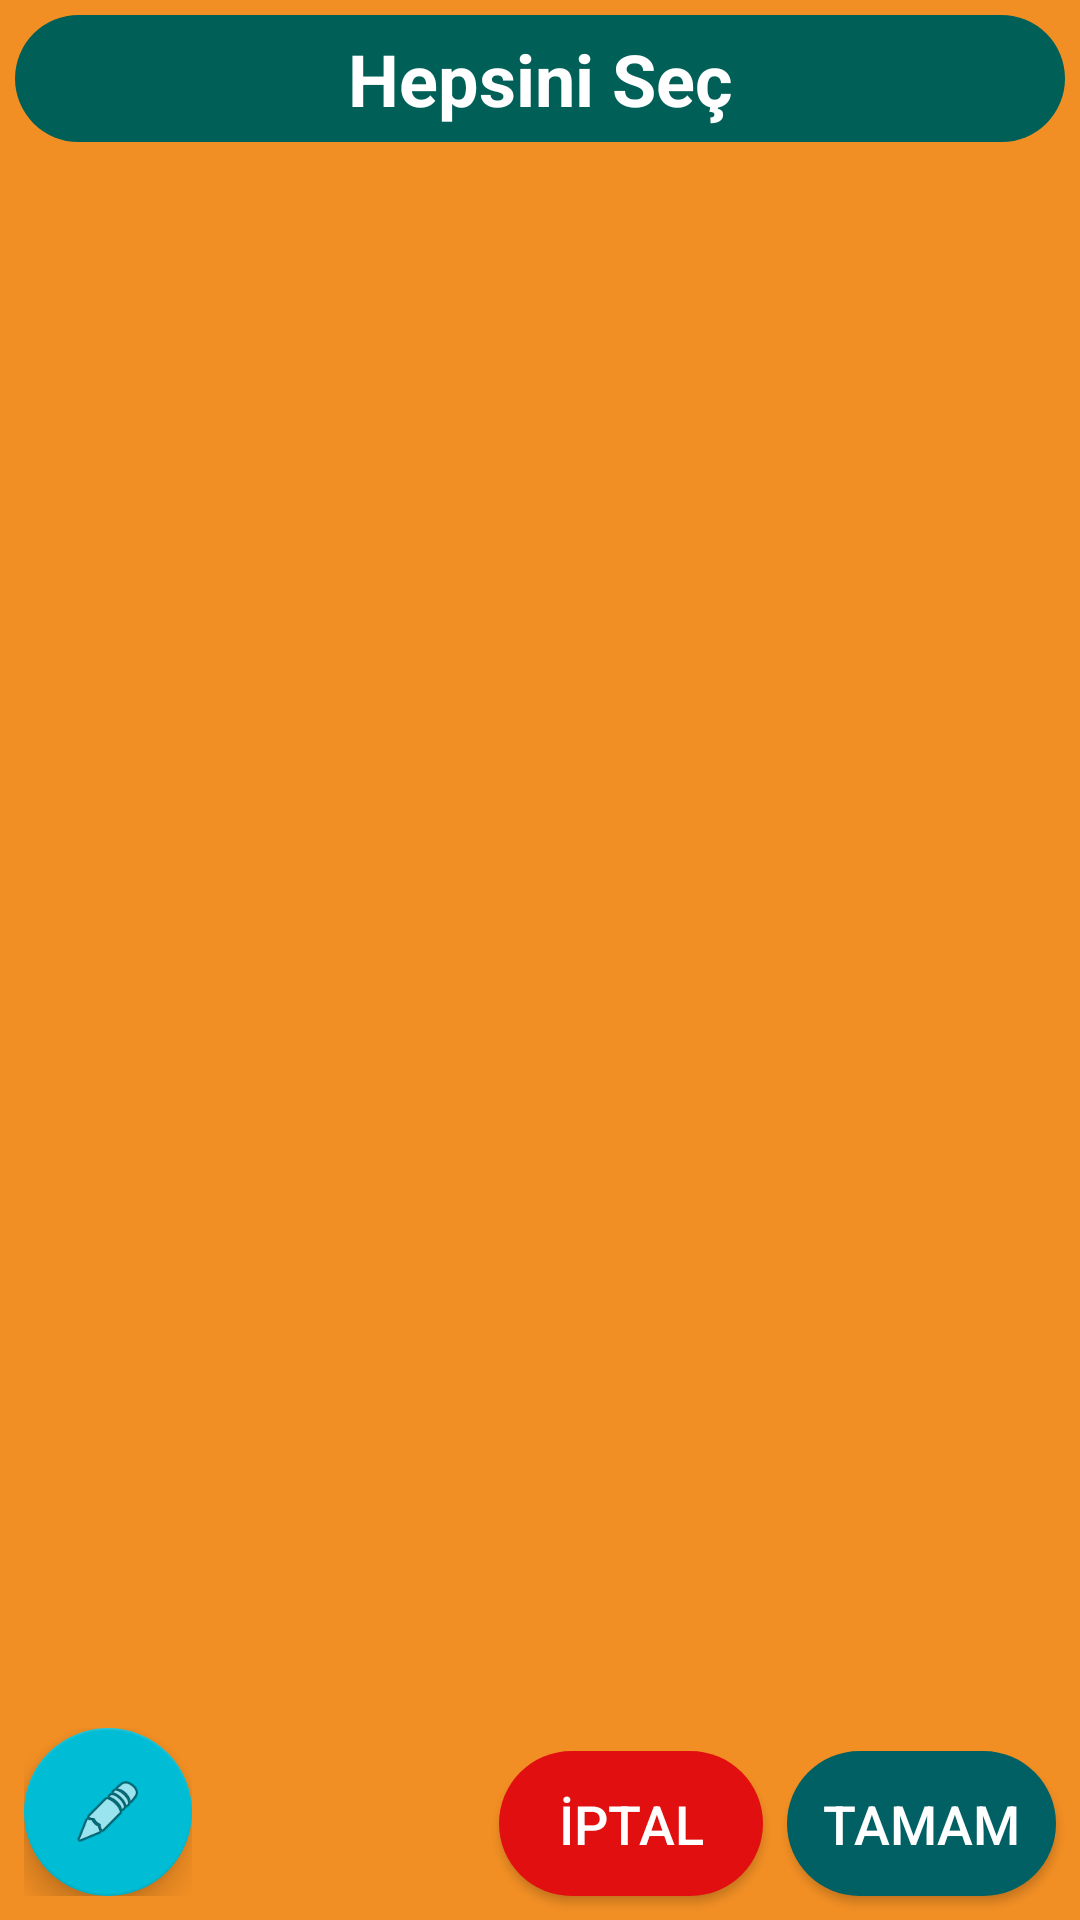

Icons on this 1080 x 1920 Android screen, each with its box as {"left": x1, "top": y1, "right": x2, "bottom": y2}:
edit: {"left": 24, "top": 1728, "right": 192, "bottom": 1896}
